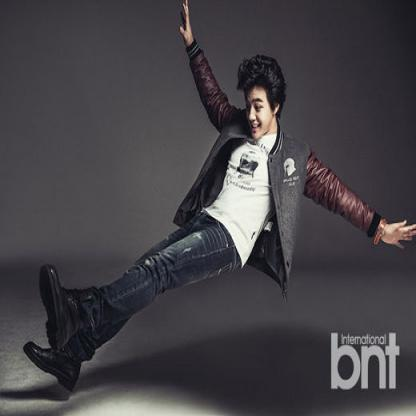Fall_Down: (22, 1, 415, 391)
